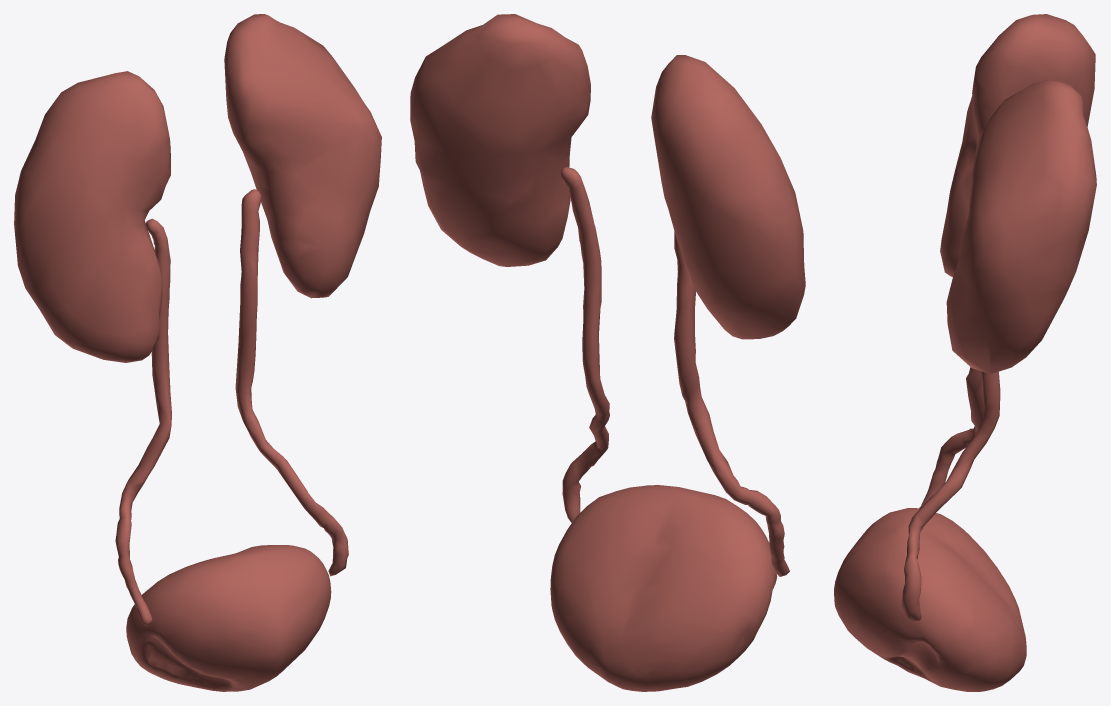
File: pediatric_infant_male.urinary.LOD0.glb
3 views of the same model, side by side, from view 1: azimuth 30°, elevation 25°; view 2: azimuth 150°, elevation 25°; view 3: azimuth 270°, elevation 25° (orthographic). The views are drawn at different scales.
Parts seen in each view (by area): view 1: PEDIATRIC.INFANT.MALE.URINARY.KIDNEY_CORTEX.R, PEDIATRIC.INFANT.MALE.URINARY.KIDNEY_CORTEX.L, PEDIATRIC.INFANT.MALE.URINARY.URINARY_BLADDER_WALL, PEDIATRIC.INFANT.MALE.URINARY.URETER.L, PEDIATRIC.INFANT.MALE.URINARY.URETER.R; view 2: PEDIATRIC.INFANT.MALE.URINARY.URINARY_BLADDER_WALL, PEDIATRIC.INFANT.MALE.URINARY.KIDNEY_CORTEX.L, PEDIATRIC.INFANT.MALE.URINARY.KIDNEY_CORTEX.R, PEDIATRIC.INFANT.MALE.URINARY.URETER.L, PEDIATRIC.INFANT.MALE.URINARY.URETER.R; view 3: PEDIATRIC.INFANT.MALE.URINARY.KIDNEY_CORTEX.L, PEDIATRIC.INFANT.MALE.URINARY.URINARY_BLADDER_WALL, PEDIATRIC.INFANT.MALE.URINARY.KIDNEY_CORTEX.R, PEDIATRIC.INFANT.MALE.URINARY.URETER.L, PEDIATRIC.INFANT.MALE.URINARY.URETER.R.
Part boxes in pixels (left/top/right/bottom): PEDIATRIC.INFANT.MALE.URINARY.KIDNEY_CORTEX.R: left=14, top=71, right=170, bottom=362; PEDIATRIC.INFANT.MALE.URINARY.KIDNEY_CORTEX.L: left=224, top=14, right=381, bottom=298; PEDIATRIC.INFANT.MALE.URINARY.URINARY_BLADDER_WALL: left=126, top=545, right=331, bottom=691; PEDIATRIC.INFANT.MALE.URINARY.URETER.L: left=235, top=189, right=348, bottom=576; PEDIATRIC.INFANT.MALE.URINARY.URETER.R: left=115, top=218, right=171, bottom=625; PEDIATRIC.INFANT.MALE.URINARY.URINARY_BLADDER_WALL: left=550, top=485, right=777, bottom=691; PEDIATRIC.INFANT.MALE.URINARY.KIDNEY_CORTEX.L: left=410, top=14, right=590, bottom=266; PEDIATRIC.INFANT.MALE.URINARY.KIDNEY_CORTEX.R: left=651, top=55, right=805, bottom=339; PEDIATRIC.INFANT.MALE.URINARY.URETER.L: left=560, top=167, right=609, bottom=522; PEDIATRIC.INFANT.MALE.URINARY.URETER.R: left=674, top=231, right=789, bottom=576; PEDIATRIC.INFANT.MALE.URINARY.KIDNEY_CORTEX.L: left=946, top=79, right=1096, bottom=373; PEDIATRIC.INFANT.MALE.URINARY.URINARY_BLADDER_WALL: left=834, top=508, right=1026, bottom=691; PEDIATRIC.INFANT.MALE.URINARY.KIDNEY_CORTEX.R: left=940, top=14, right=1095, bottom=277; PEDIATRIC.INFANT.MALE.URINARY.URETER.L: left=902, top=371, right=1000, bottom=621; PEDIATRIC.INFANT.MALE.URINARY.URETER.R: left=919, top=367, right=983, bottom=508.
Bounding box in the file's own units: 0.0975 × 0.165 × 0.0614.
